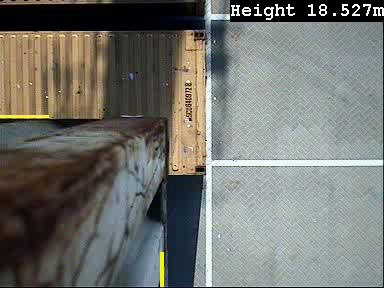groundmarker_2: (146, 186, 256, 281)
